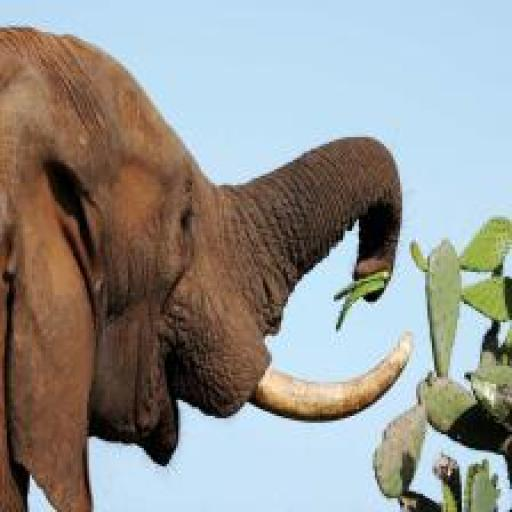Elephant: (0, 23, 414, 512)
